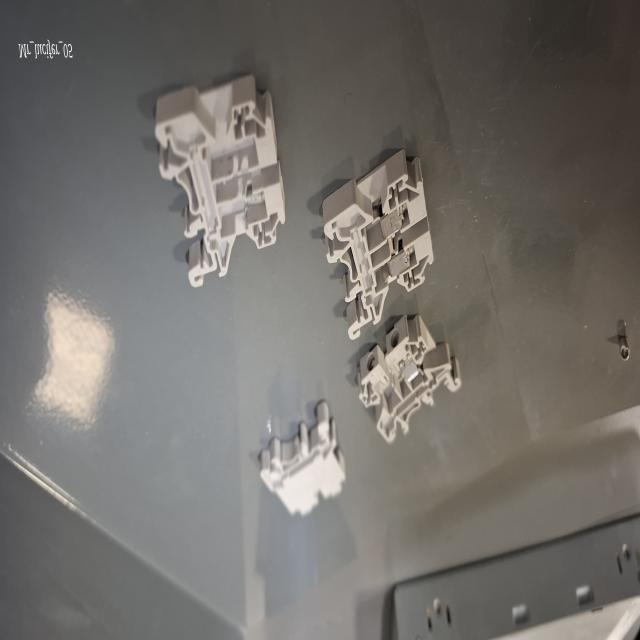Inverted: (256, 404, 342, 522)
Pass: (319, 146, 434, 342)
Reject: (150, 67, 288, 293), (352, 314, 463, 446)
